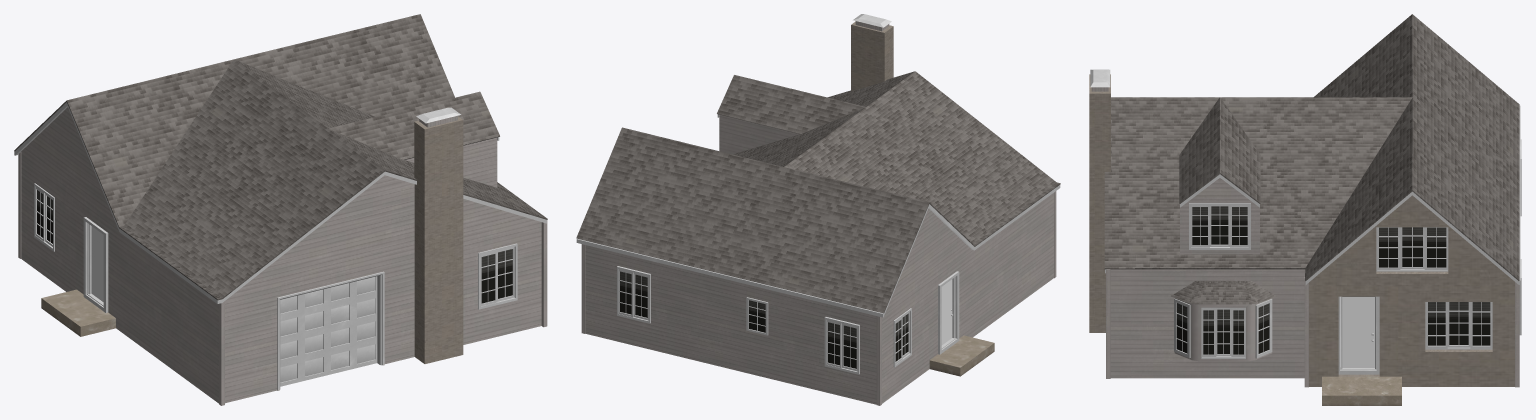
Rendered from house-4.glb.
The picture shows the model from 3 angles, left to right: view 1: azimuth 30°, elevation 25°; view 2: azimuth 150°, elevation 25°; view 3: azimuth 270°, elevation 25°; orthographic projection. The views are drawn at different scales.
Visible parts, largest first — view 1: House_4_col_V2; view 2: House_4_col_V2; view 3: House_4_col_V2.
Part boxes in pixels (x1,y1,x2,y2): House_4_col_V2: (14,14,547,405); House_4_col_V2: (576,14,1060,405); House_4_col_V2: (1089,14,1521,405).
Bounding box in the file's own units: 12.23 × 6.82 × 10.8.
Materials: 1 (1 with a texture image).
